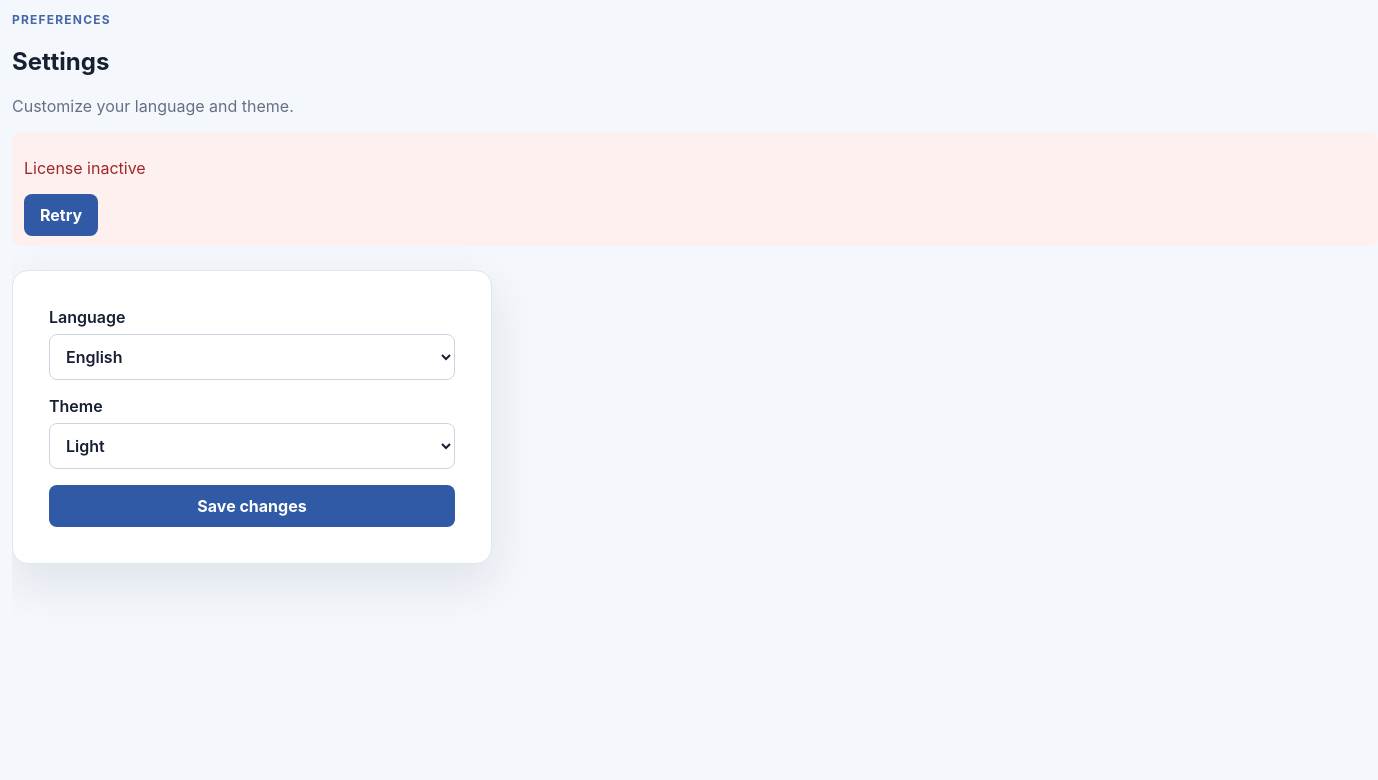
Test: SettingsPage › shows save and load failures without invalidating authentication
expect the text "License inactive" is shown: met, box [24,158,146,178]
Click the button "Save changes" at (252,506), box [49,485,455,527]
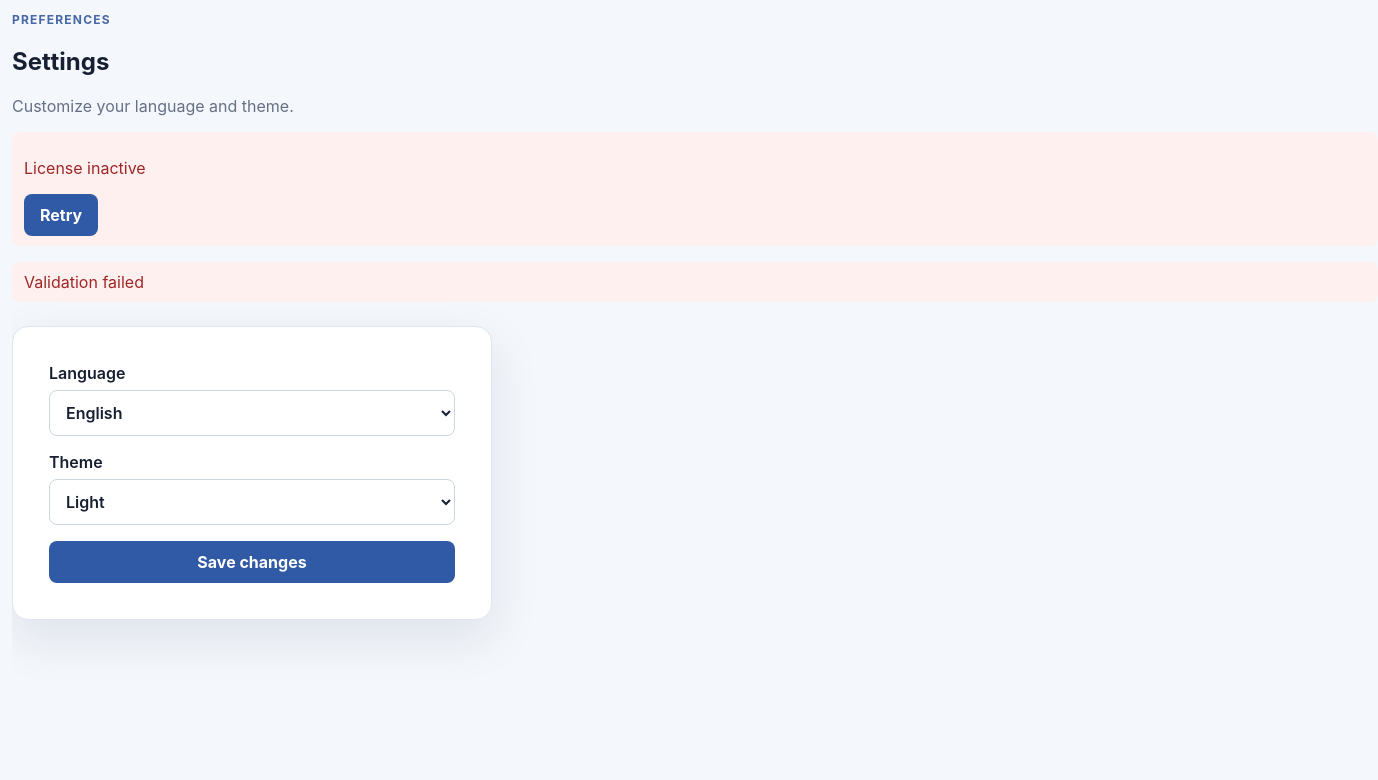
expect the text "Validation failed" is shown: met, box [12,262,1377,302]
